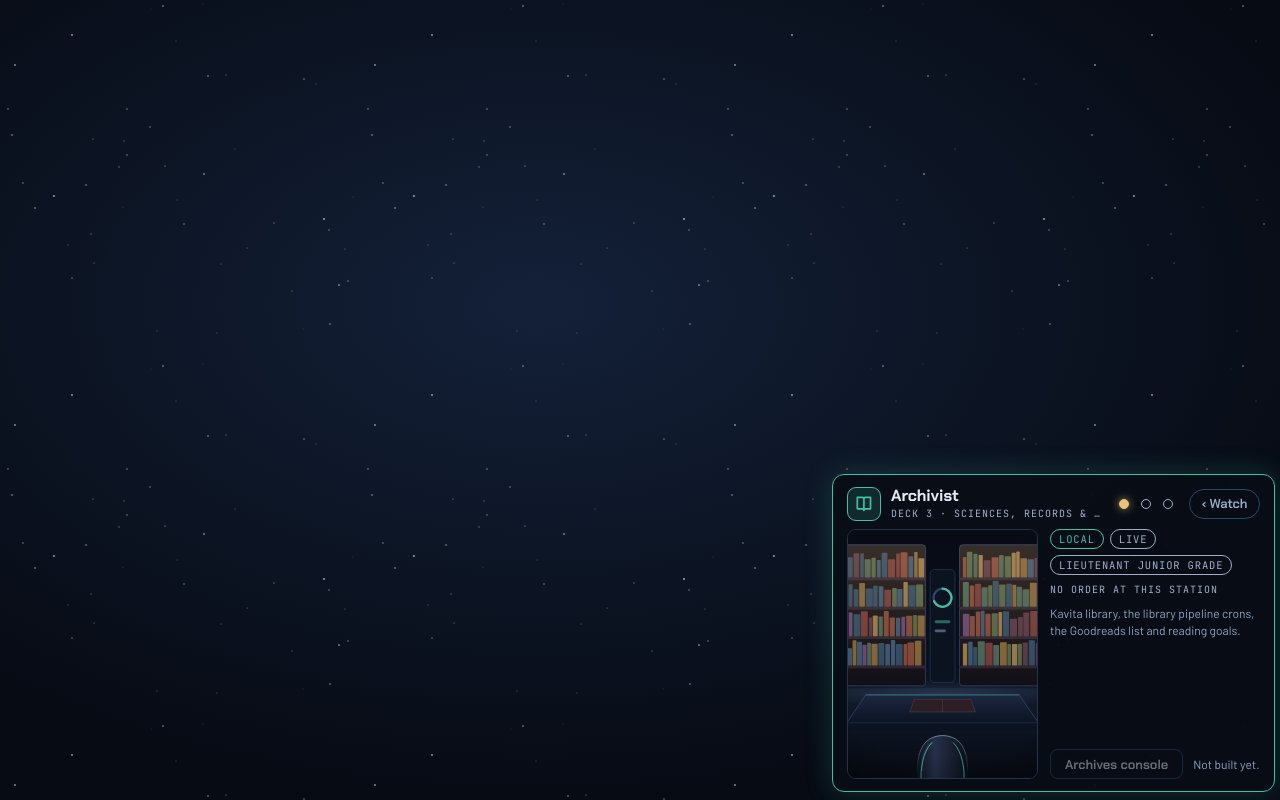
Test: place logs › a crew member's service log shows the briefings they sat in
Click the button named "Page 3: Service log" at point(1168, 504), box [1157,493,1179,515]
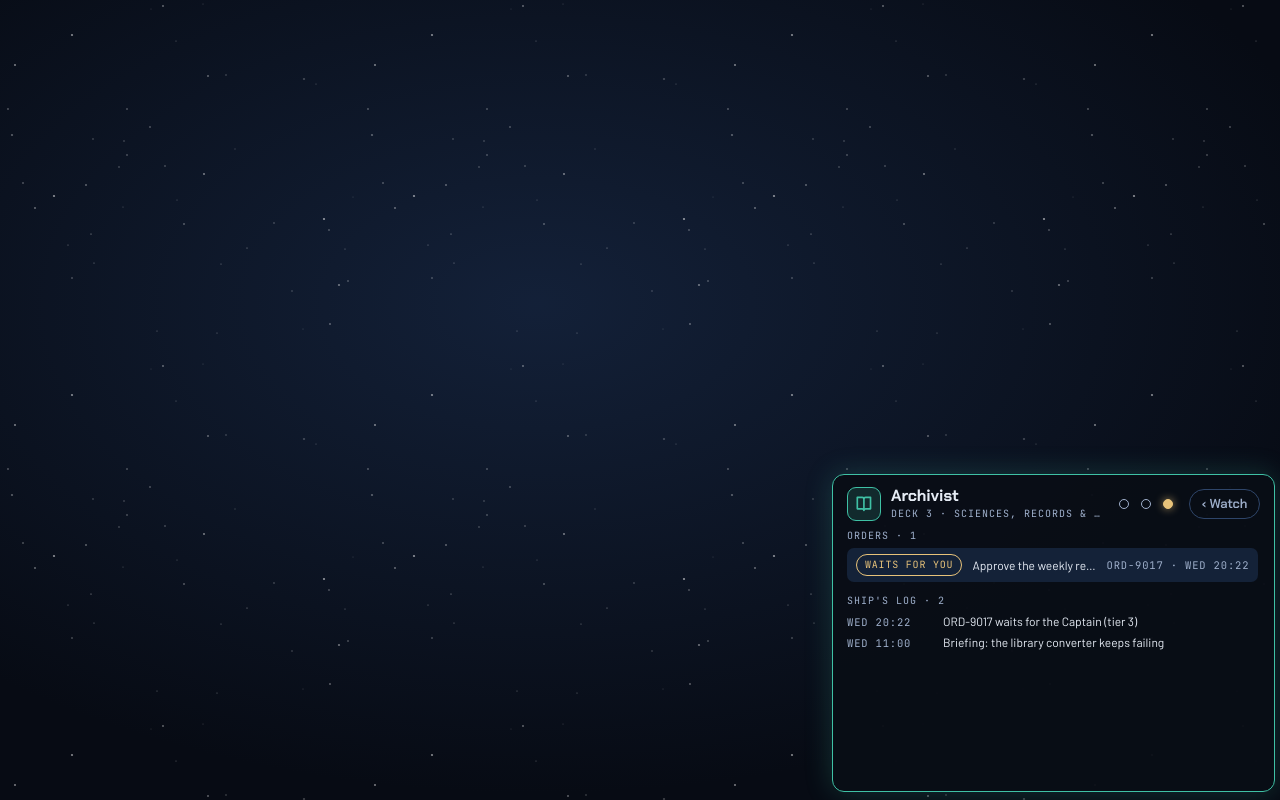
Expected: the text "Briefing: the library converter keeps failing" is shown, [943,635,1164,649]
